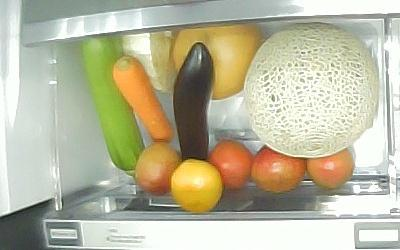cabbage: (122, 33, 174, 95)
carrot: (113, 56, 176, 145)
eggplant: (172, 42, 215, 163)
melon: (244, 23, 380, 158)
pear: (173, 24, 260, 101)
prune: (252, 146, 307, 194), (134, 142, 181, 195), (208, 139, 252, 192)
tangerine: (169, 158, 222, 212)
tomato: (305, 148, 356, 192)
zucchini: (80, 37, 146, 173)
